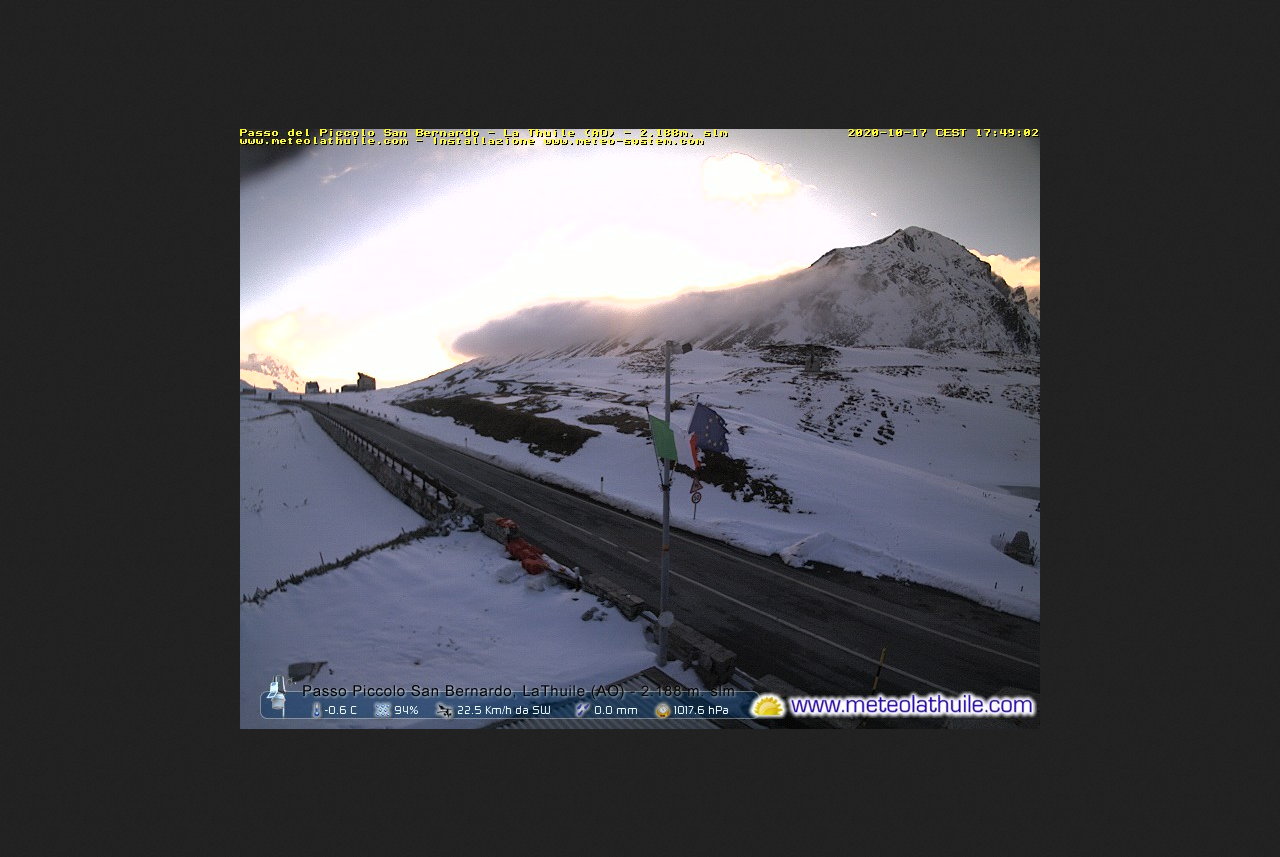yes: (647, 412, 704, 473), (689, 400, 731, 457)
